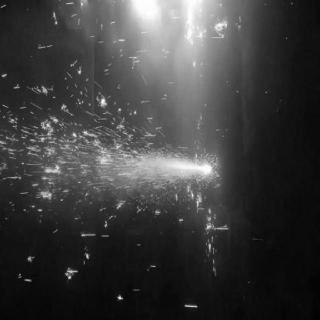Fire: (164, 156, 214, 186)
